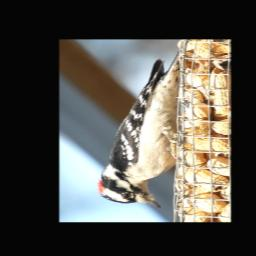Woodpecker: (97, 52, 185, 208)
